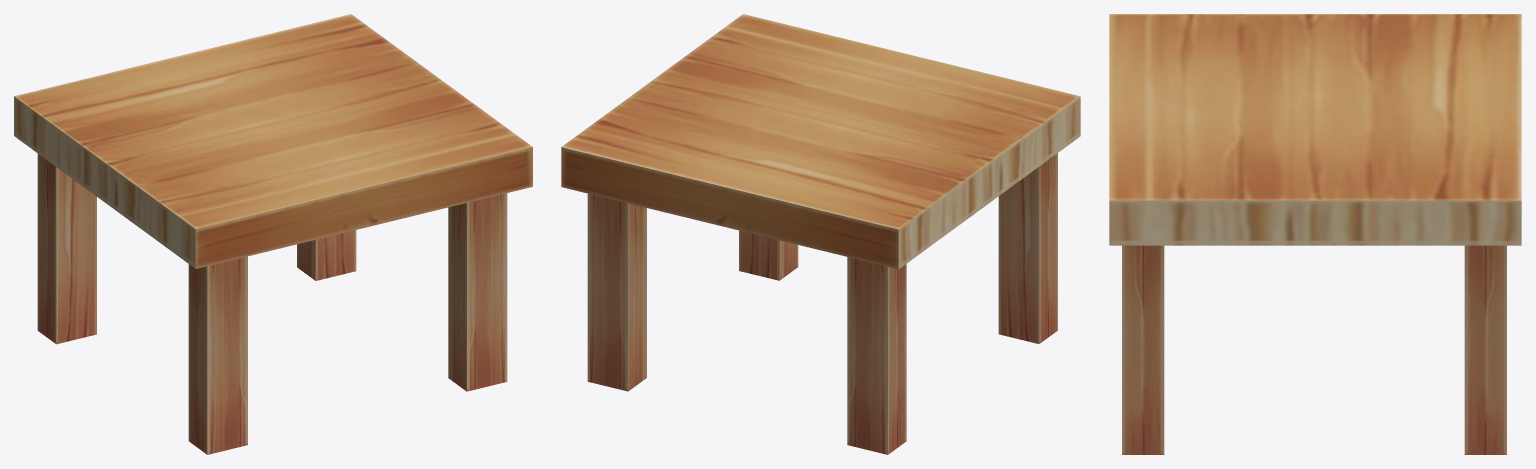
Rendered from SE_Table_01a_SM.FBX.
3 renders of one model, left to right at view 1: azimuth 30°, elevation 25°; view 2: azimuth 150°, elevation 25°; view 3: azimuth 270°, elevation 25°, orthographic. The views are drawn at different scales.
Parts seen in each view (by area): view 1: SE_Table_01a_SM_LOD0; view 2: SE_Table_01a_SM_LOD0; view 3: SE_Table_01a_SM_LOD0.
Part boxes in pixels (x1,y1,x2,y2): SE_Table_01a_SM_LOD0: (14,14,532,454); SE_Table_01a_SM_LOD0: (561,14,1080,454); SE_Table_01a_SM_LOD0: (1109,14,1521,454).
Size of what is drawn, in the model's own units: 214 by 200 by 142.
